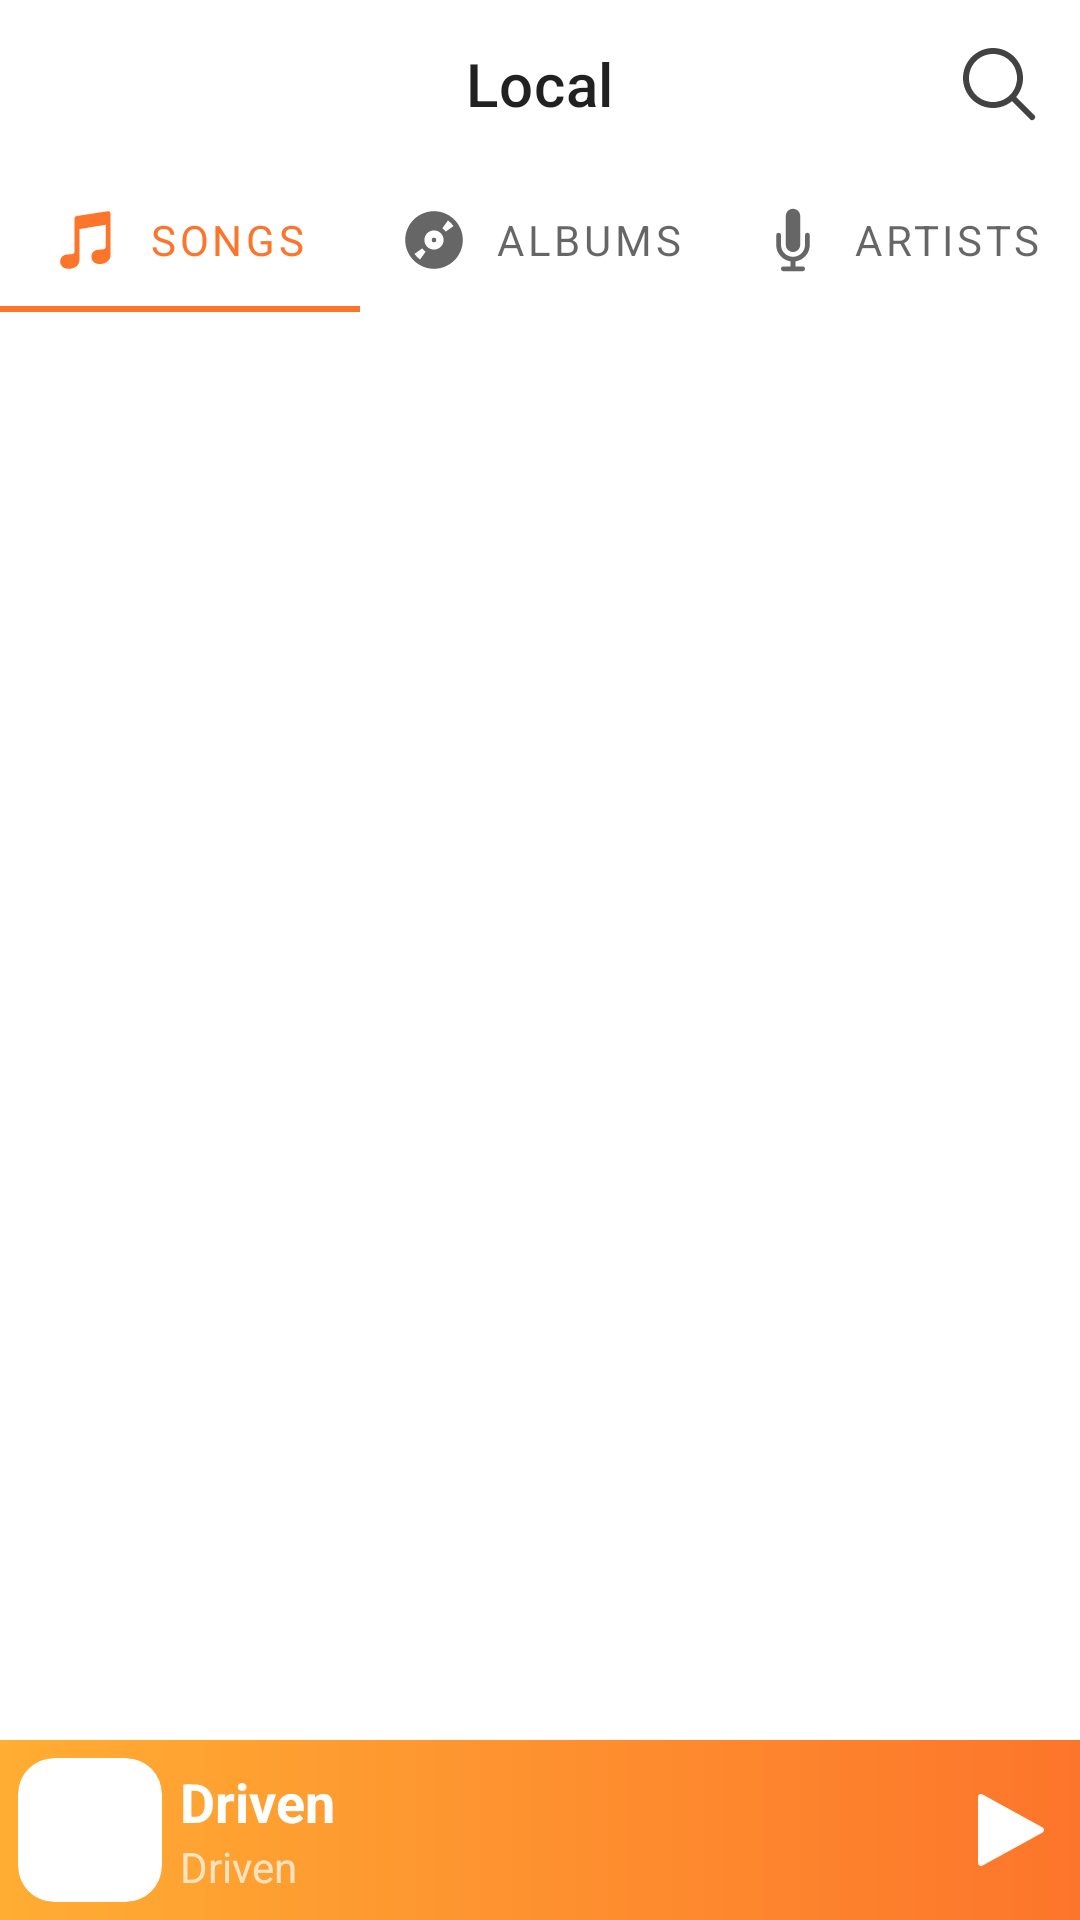

Named icons in this screenshot (1080x1920) and their bounding boxes, (x1, y1, x2, y2):
play: (978, 1794, 1044, 1866)
